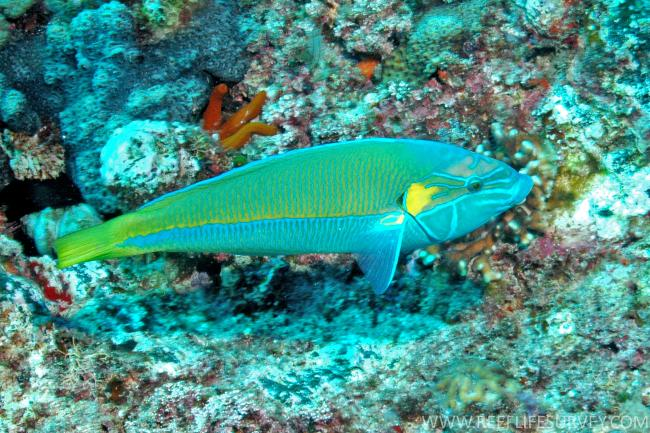fish: (55, 137, 538, 293)
